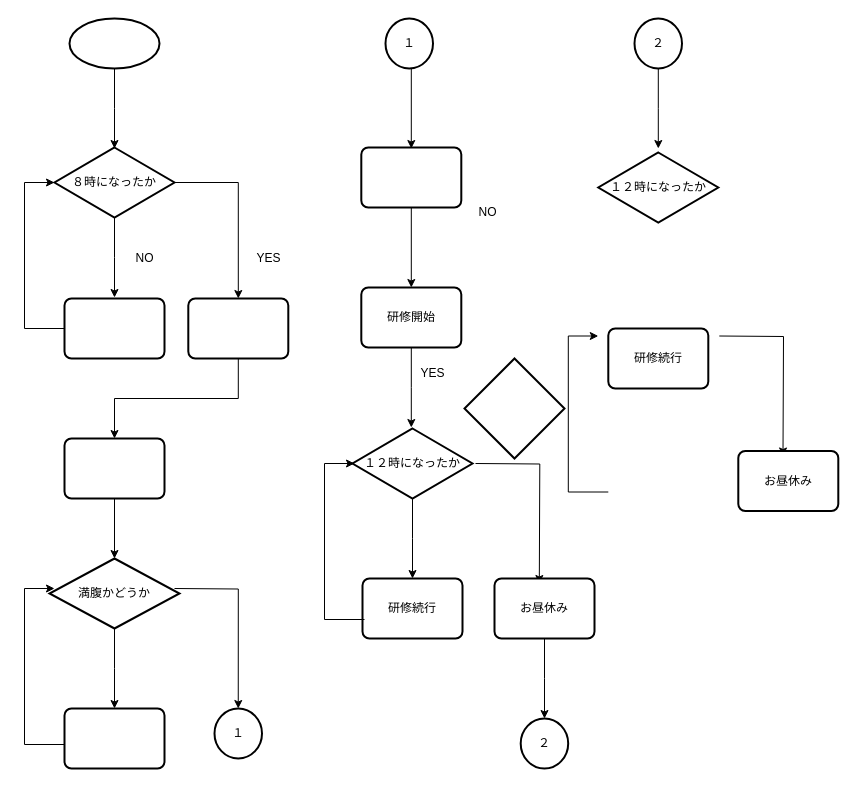
This 857x786 diagram has some shape labels left out. Each missing label, with the centre of its shape:
"もう少し食べる" goes at pixel 114 738.
"寝続ける" goes at pixel 114 328.
"朝食" goes at pixel 114 468.
"歯磨き・着替え" goes at pixel 411 177.
"起床" goes at pixel 238 328.
"開始" goes at pixel 114 43.
